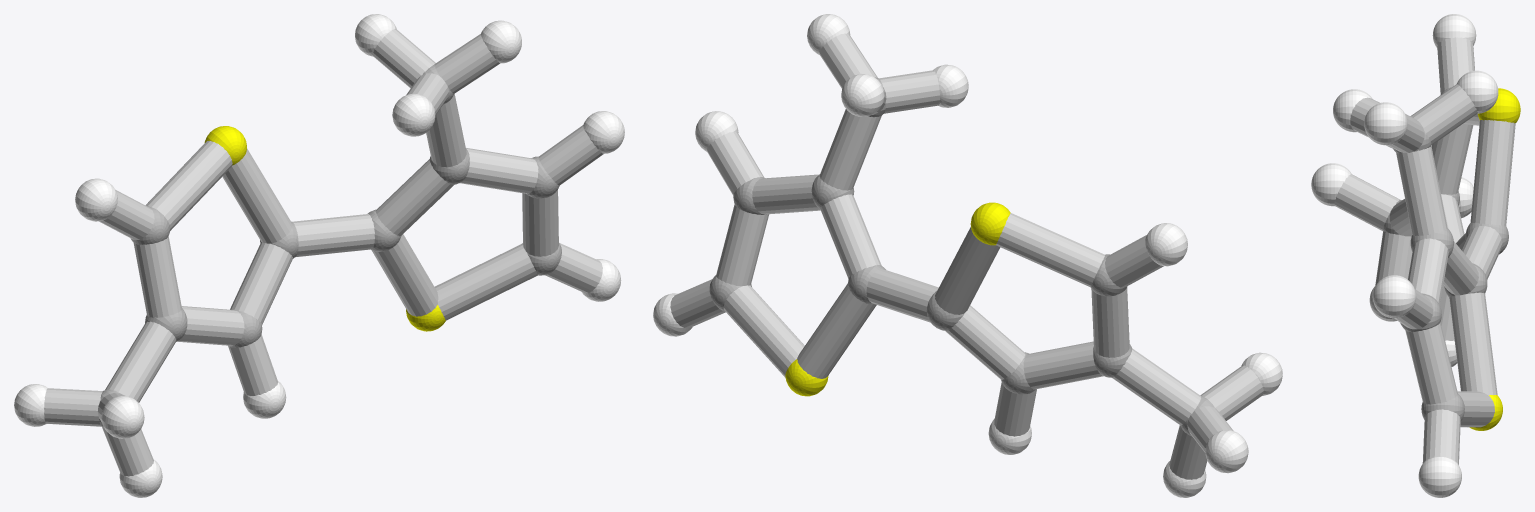
The model's file is Methylthiophene_Phi_25_Theta_30_Methylthiophene.glb.
3 views of the same model, side by side, from view 1: azimuth 30°, elevation 25°; view 2: azimuth 150°, elevation 25°; view 3: azimuth 270°, elevation 25° (orthographic).
Parts seen in each view (by area): view 1: grp7965, grp3621, grp1, grp7241; view 2: grp7965, grp3621, grp1, grp7241; view 3: grp7965, grp3621, grp1, grp7241.
Boxes of the visible parts, bbox=[...] form: grp7965: bbox=[44, 29, 603, 476]; grp3621: bbox=[14, 14, 624, 497]; grp1: bbox=[99, 65, 561, 428]; grp7241: bbox=[204, 126, 445, 331]; grp7965: bbox=[670, 33, 1263, 479]; grp3621: bbox=[653, 14, 1282, 497]; grp1: bbox=[709, 77, 1216, 436]; grp7241: bbox=[785, 202, 1010, 396]; grp7965: bbox=[1334, 37, 1515, 464]; grp3621: bbox=[1311, 14, 1498, 497]; grp1: bbox=[1383, 87, 1508, 421]; grp7241: bbox=[1469, 88, 1520, 430].
Size of the model in its own units: 9.53 by 5.95 by 2.89.
